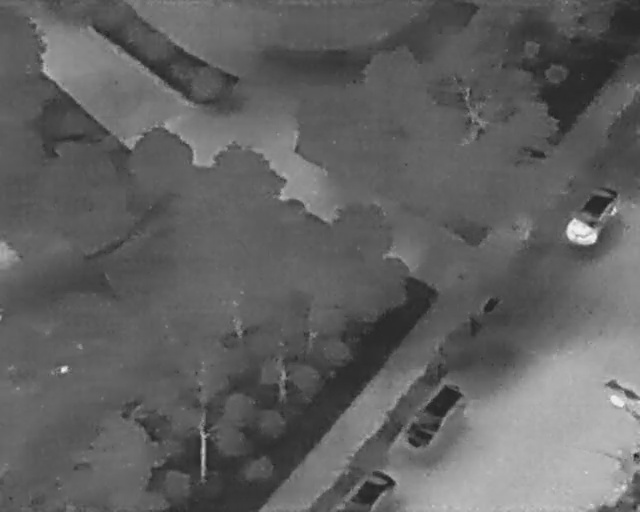Car: (397, 376, 471, 458), (557, 175, 629, 256), (341, 467, 397, 510)
